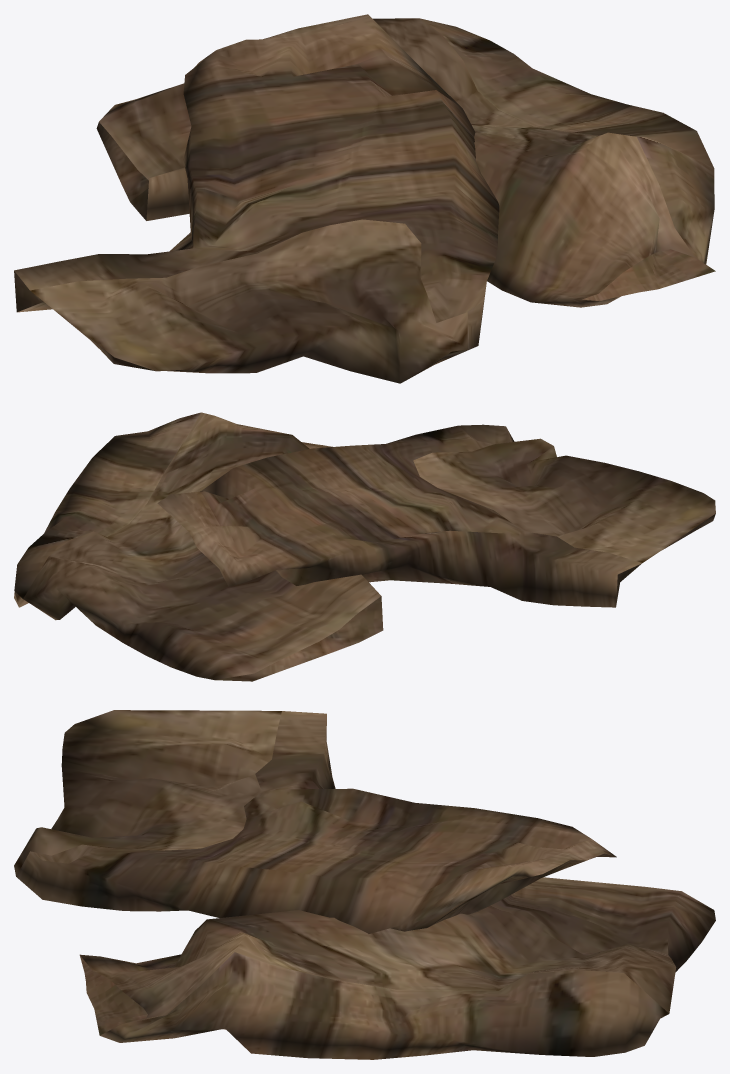
Rendered from shoes.burlap.worldmodel.glb.
3 views of the same model, one above another, from view 1: azimuth 30°, elevation 25°; view 2: azimuth 150°, elevation 25°; view 3: azimuth 270°, elevation 25° (orthographic). The views are drawn at different scales.
Visible parts, largest first — view 1: burlap_shoes_folded_LOD0; view 2: burlap_shoes_folded_LOD0; view 3: burlap_shoes_folded_LOD0.
Part boxes in pixels (x1=…): burlap_shoes_folded_LOD0: x1=14, y1=14, x2=715, y2=383; burlap_shoes_folded_LOD0: x1=14, y1=412, x2=715, y2=681; burlap_shoes_folded_LOD0: x1=14, y1=710, x2=715, y2=1059.
Size of the model in its own units: 0.307 by 0.0557 by 0.2932.
Materials: 1 (1 with a texture image).
